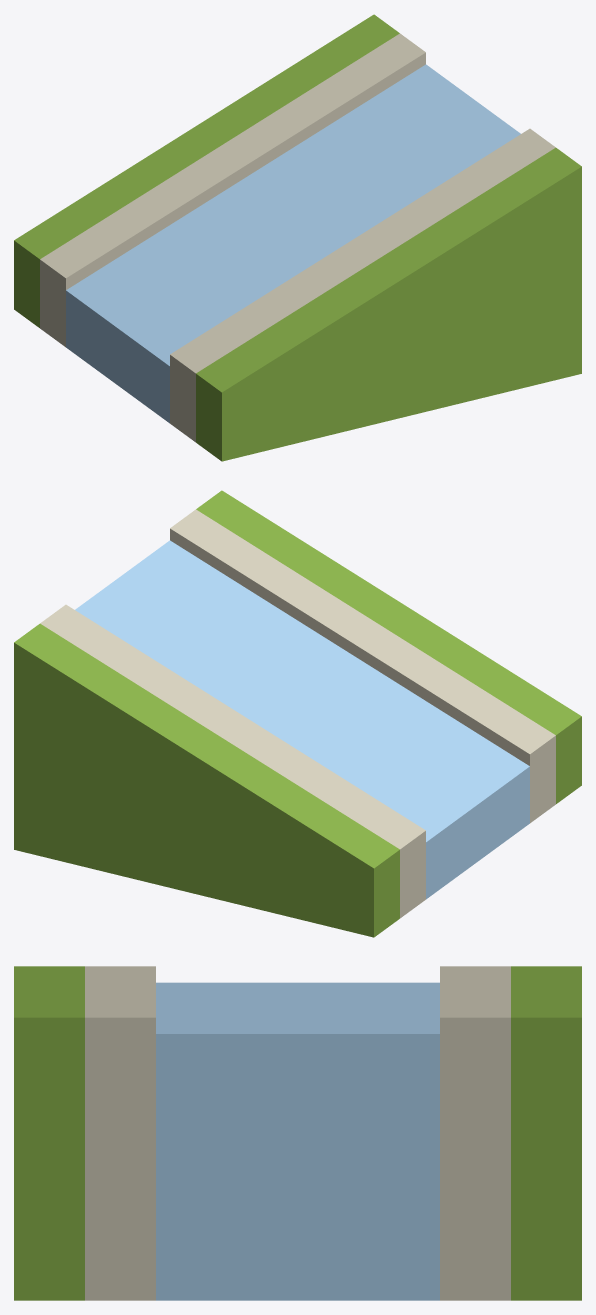
The model's file is tile109.fbx.
3 renders of one model, top to bottom at view 1: azimuth 30°, elevation 25°; view 2: azimuth 150°, elevation 25°; view 3: azimuth 270°, elevation 25°, orthographic. The views are drawn at different scales.
Parts seen in each view (by area): view 1: tile109; view 2: tile109; view 3: tile109.
Boxes of the visible parts, x1,y1,x2,y2 form: tile109: (14,14,581,461); tile109: (14,490,581,937); tile109: (14,966,581,1300).
Size of the model in its own units: 10 by 5.5 by 10.
